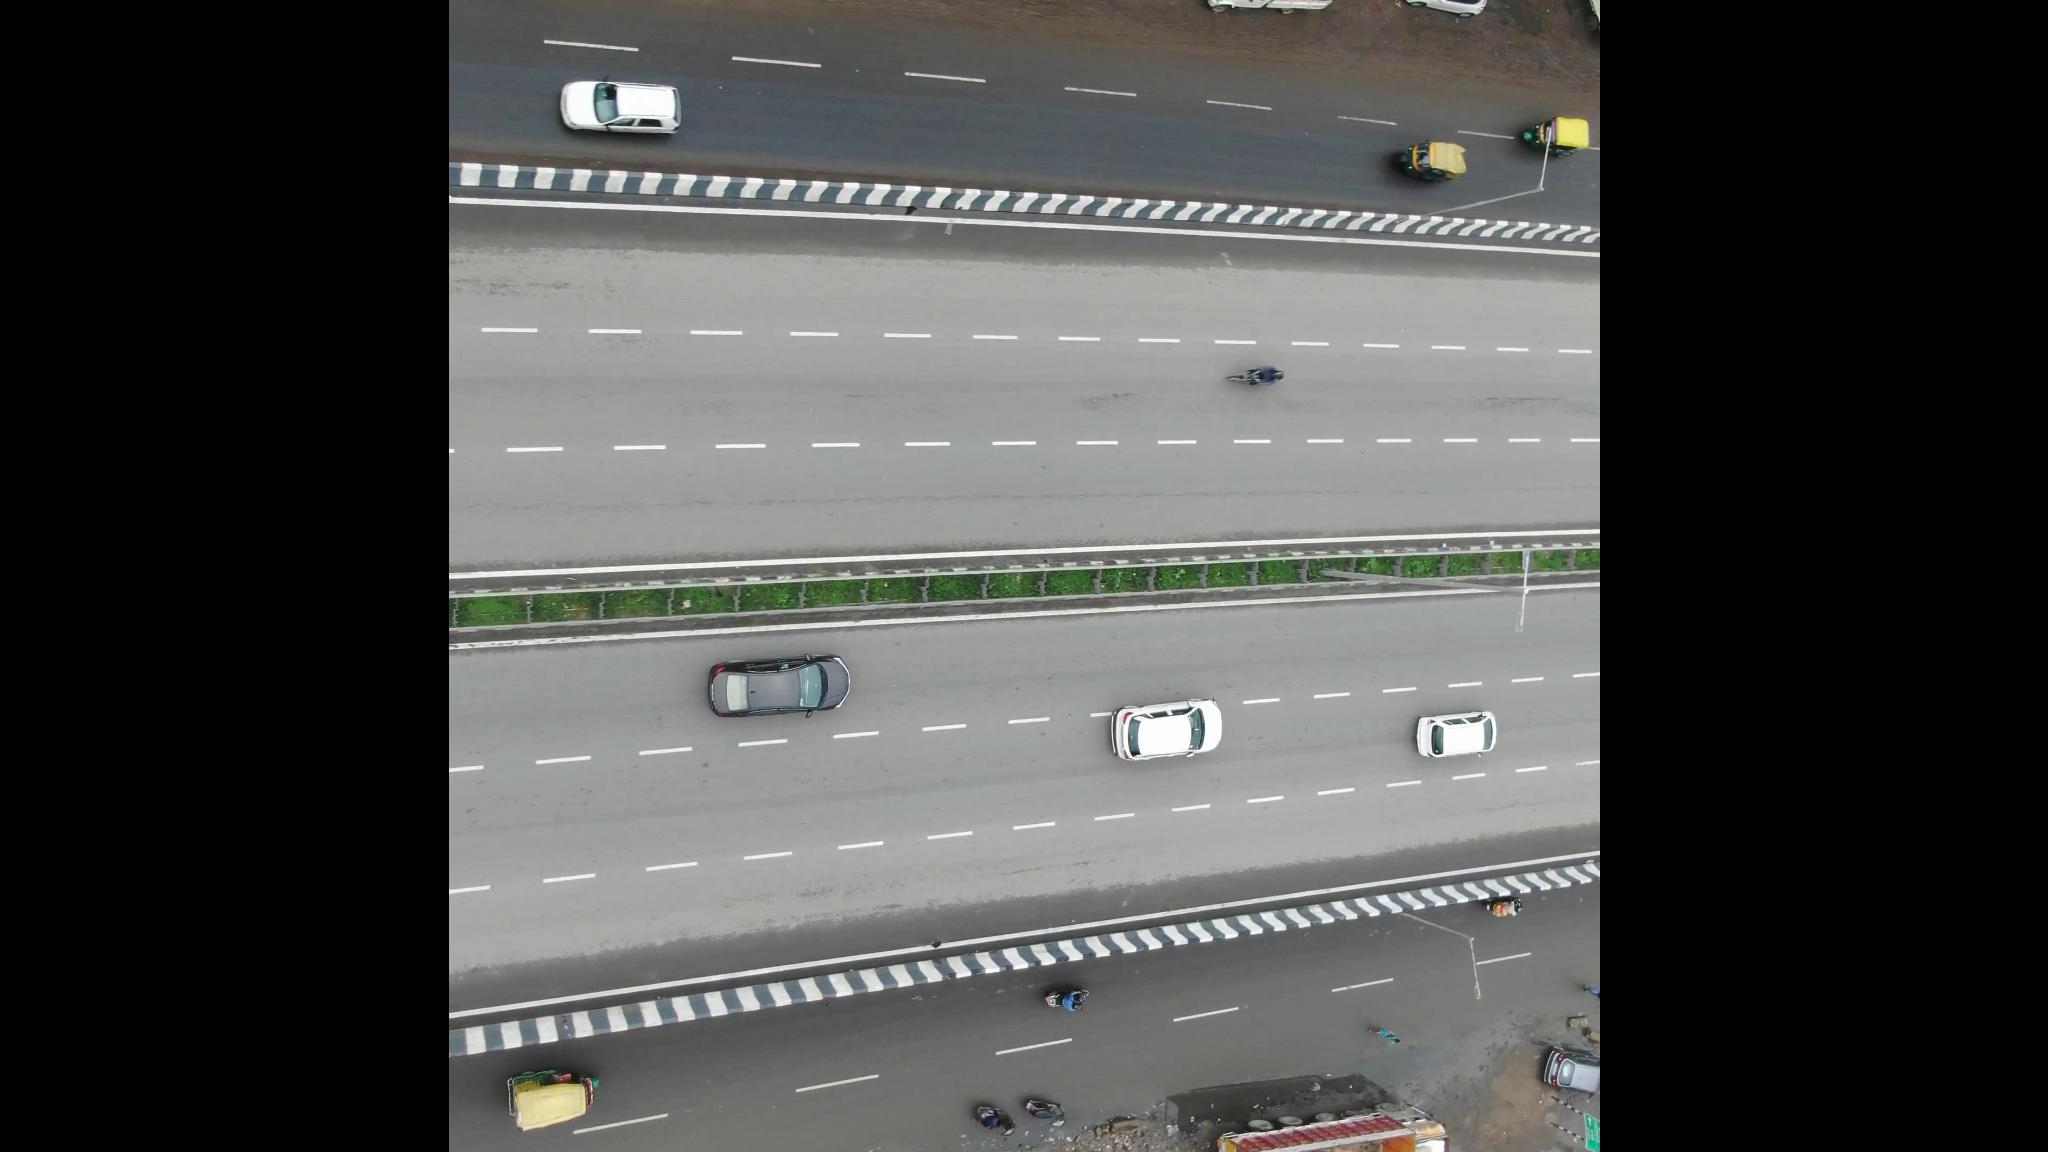Muddy_road: (949, 1, 1172, 25)
Ravelling: (1446, 373, 1601, 435), (1047, 378, 1175, 418)
Waterlogging: (1101, 1061, 1332, 1151), (833, 1137, 985, 1152)
